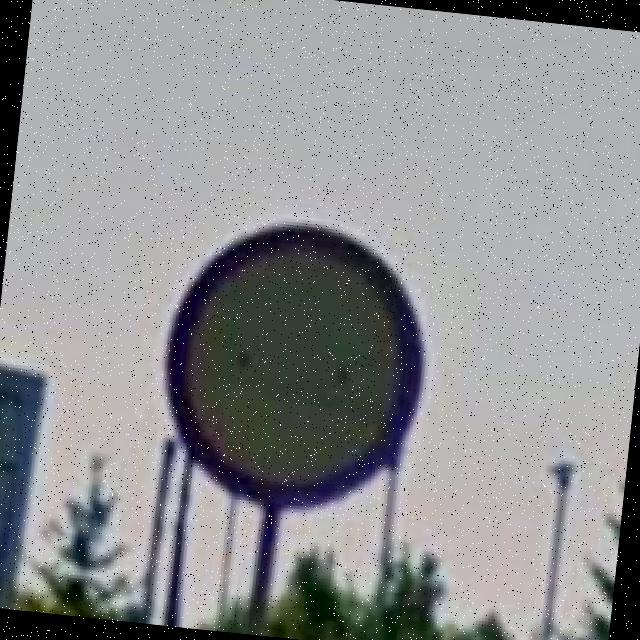Zakaz ruchu w obu kierunkach: (150, 210, 438, 524)
